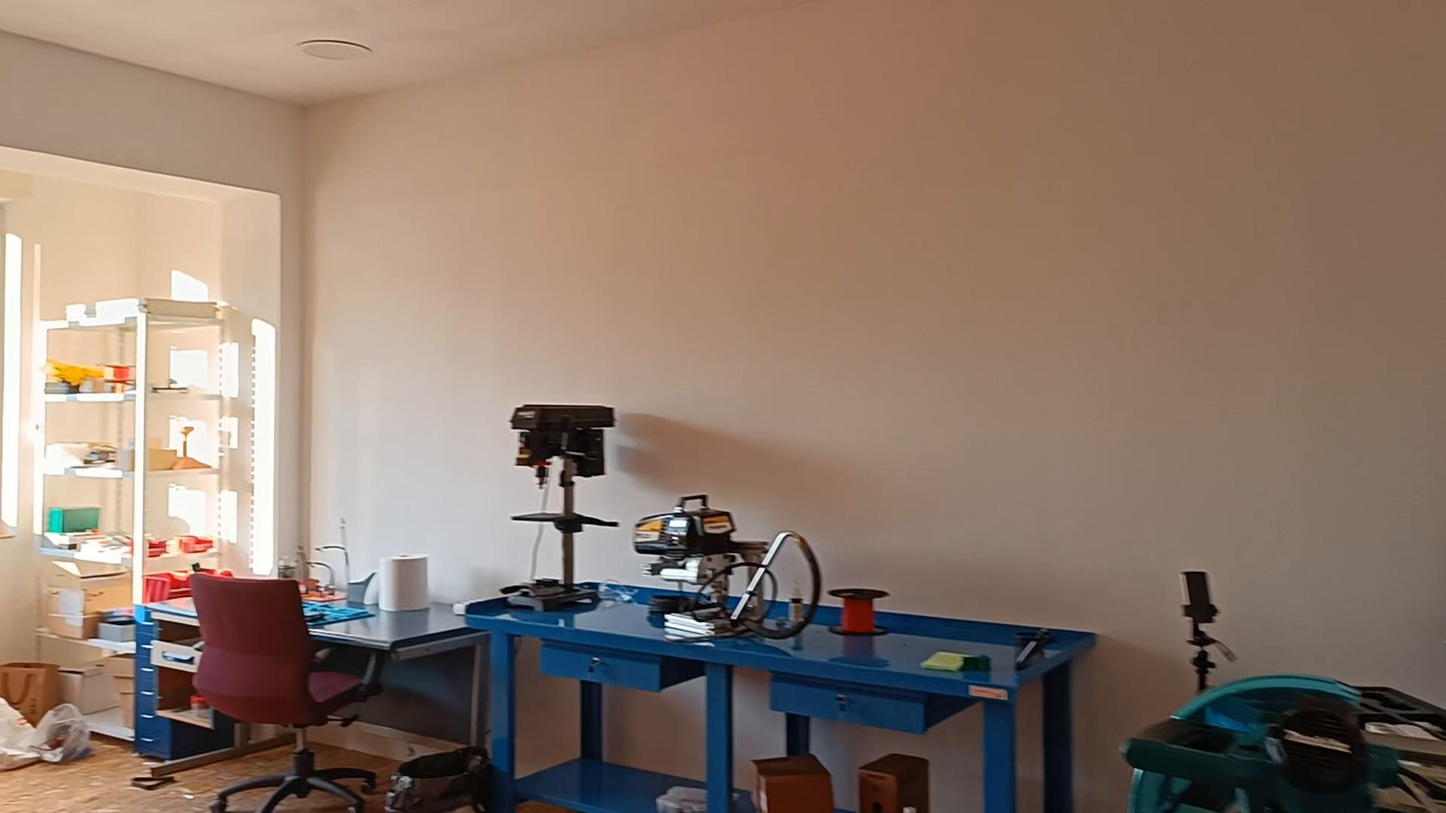ceiling: (0, 0, 798, 103)
wall: (299, 2, 1445, 810)
